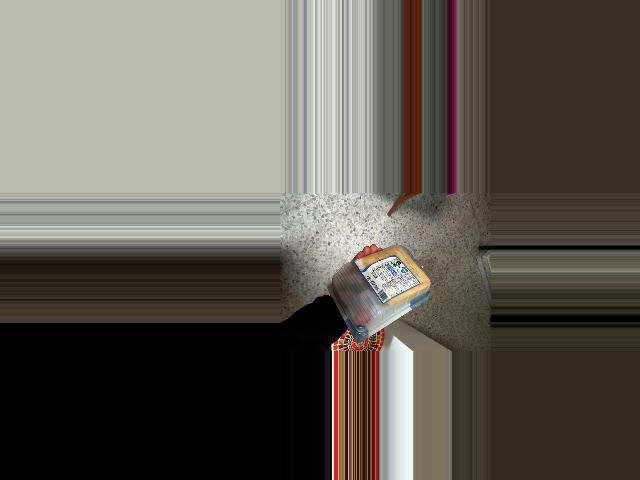cheese: (329, 244, 437, 335)
